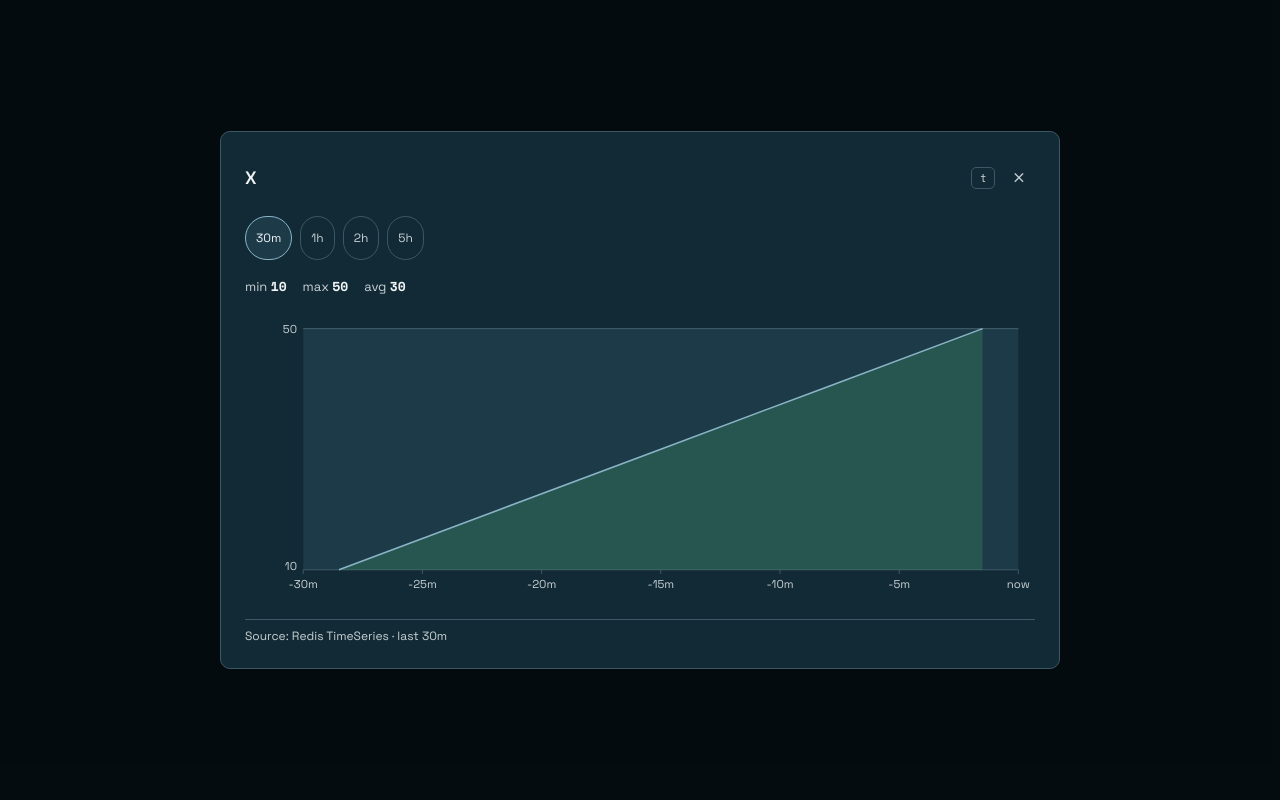
Test: <MetricHistoryModal /> › Reset zoom restores the full-window view
The image size is (1280, 800).
Press the mouse on the picture with test id "metric-history-modal-chart" at [640, 458], box [245,312,1035,603]
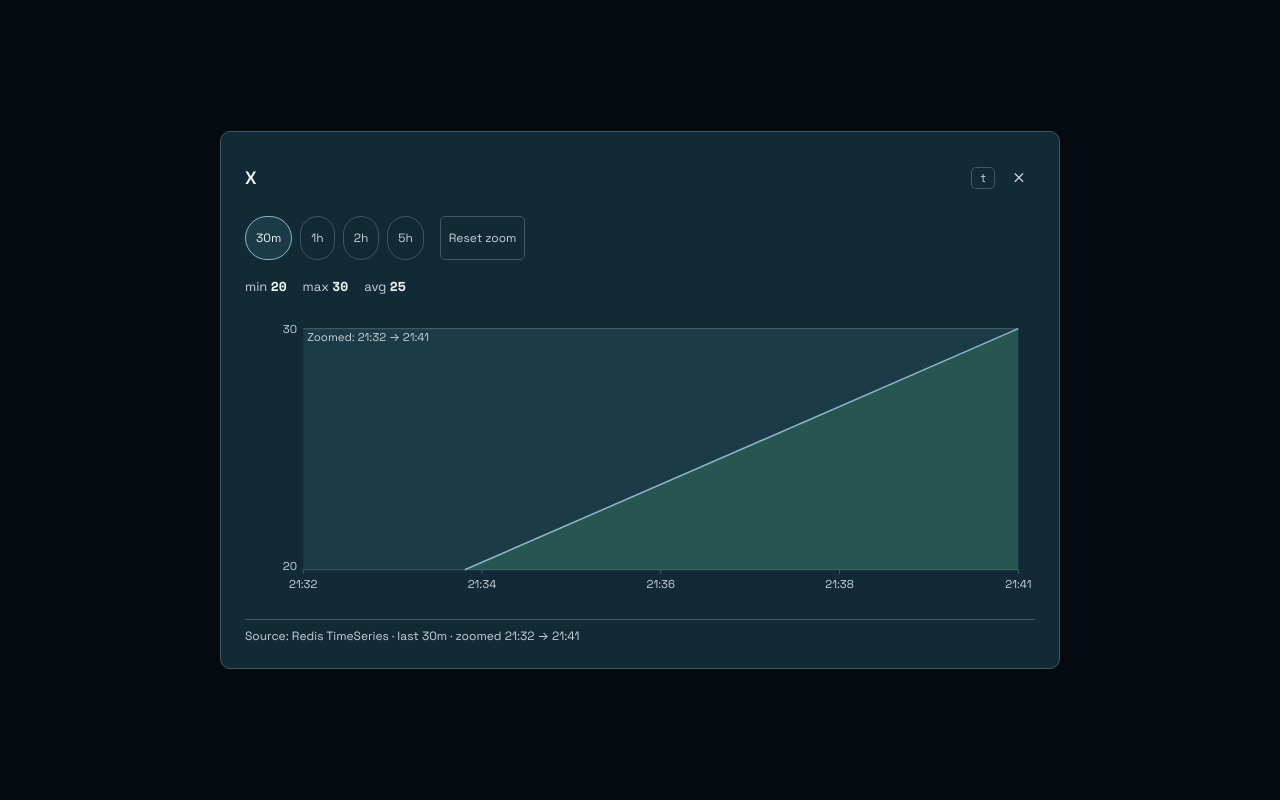
Check: the button with test id "mhm-reset-zoom" is shown
Click the button with test id "mhm-reset-zoom".
click(483, 238)  # box [440,216,526,260]
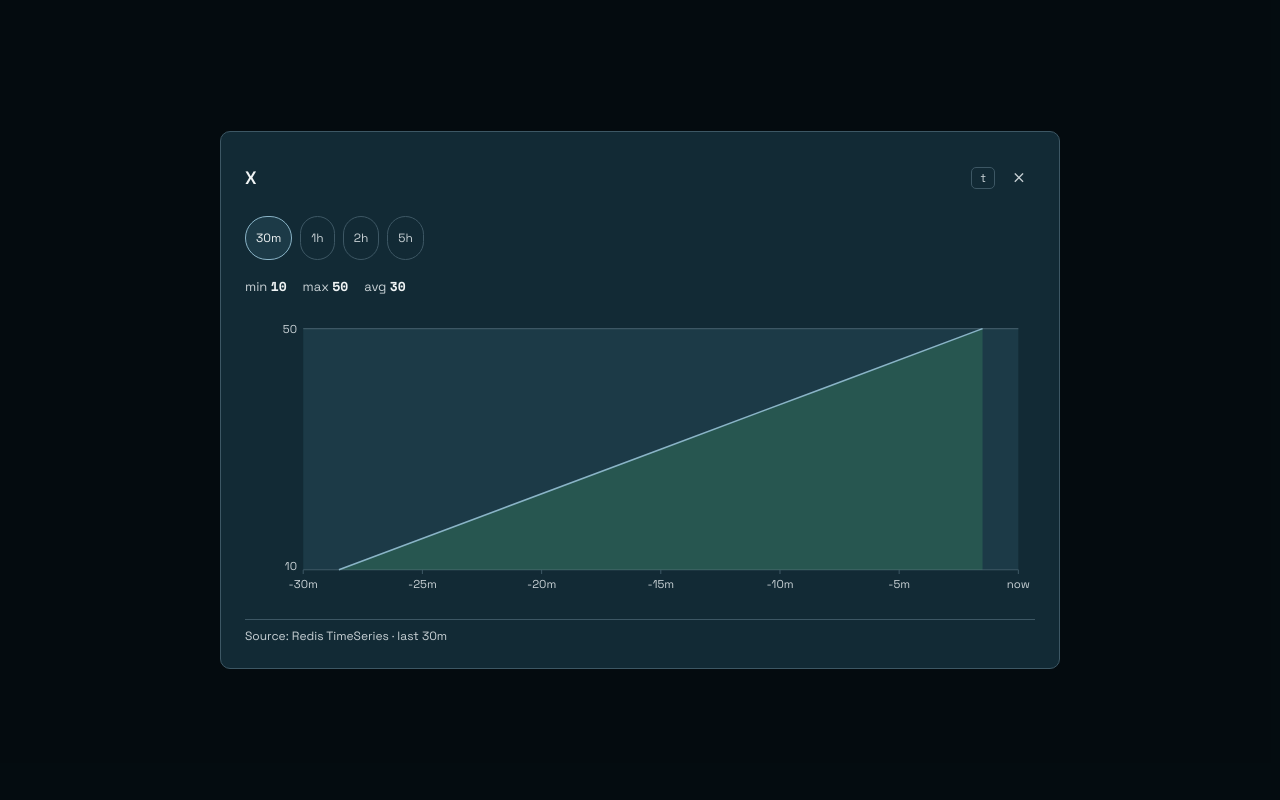
Check: the button with test id "mhm-reset-zoom" is gone
Check: the element with test id "mhm-badge-min" shows "10", box [271,276,287,296]
Check: the element with test id "mhm-badge-max" shows "50", box [332,276,348,296]
